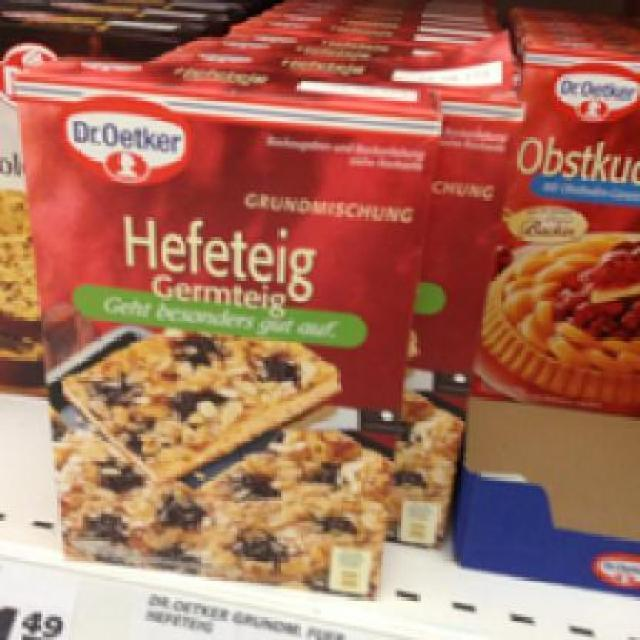Cake: (8, 46, 444, 614)
